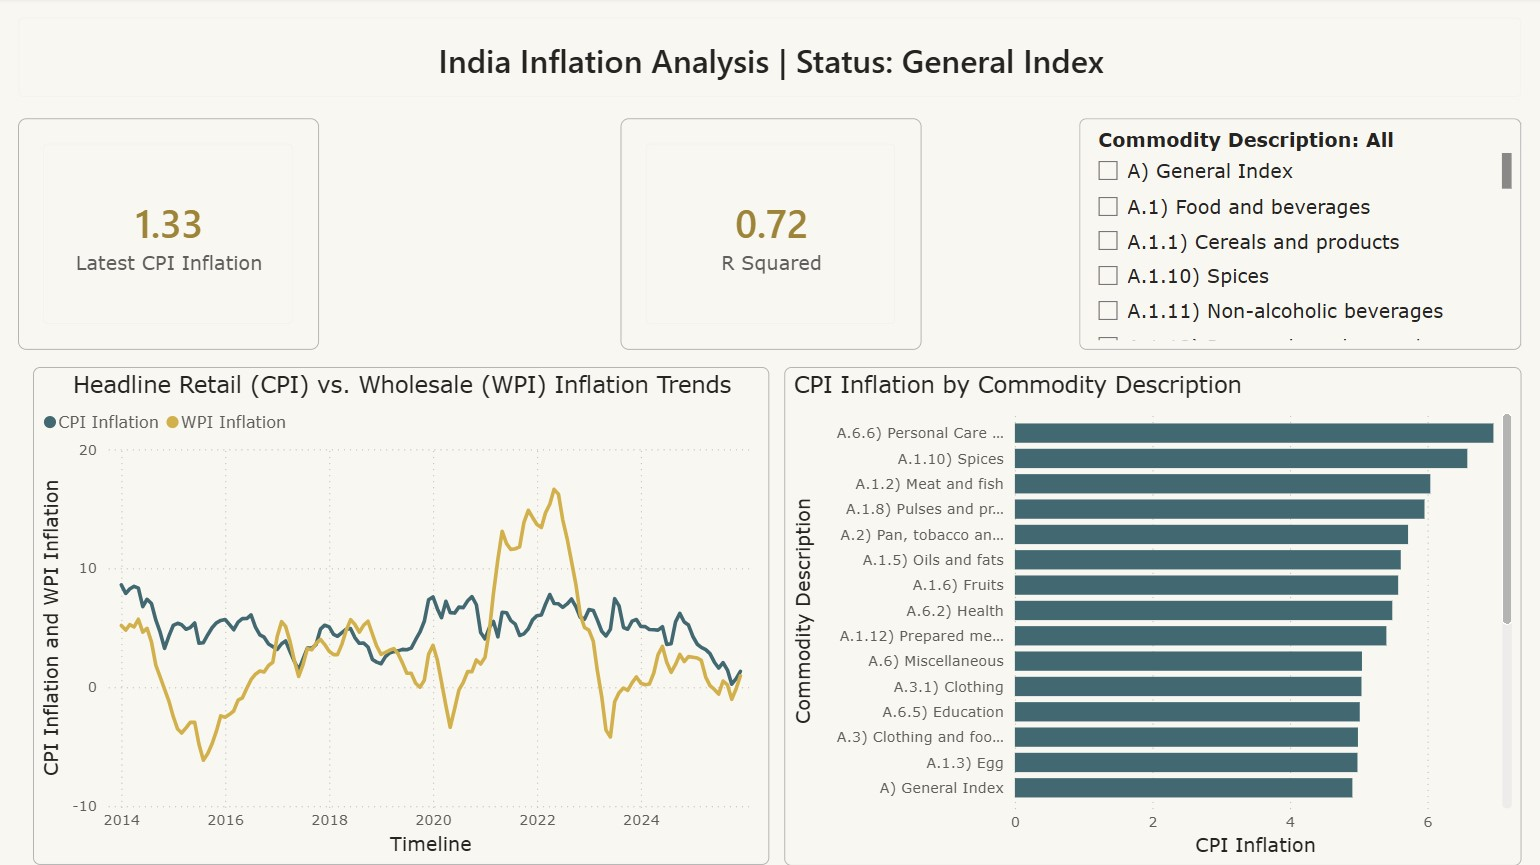

This screenshot's page, from the dashboard's own definition file:
{"tool":"powerbi","page":{"name":"Page 1","canvas":[1280,720],"ordinal":0},"visuals":[{"type":"cardVisual","fields":{"Data":["cleaned_cpi_data.Dynamic_Dashboard_Title"]},"box":[0,0,1280.8,100.5],"z":0},{"type":"cardVisual","fields":{"Data":["cleaned_cpi_data.Latest_CPI_Inflation"]},"box":[16.3,100.3,249.3,192.4],"z":1000},{"type":"cardVisual","fields":{"Data":["Sum(Model_Metrics.R_Squared)"]},"box":[516.2,100.3,249.3,192.4],"z":2000},{"type":"slicer","fields":{"Values":["cleaned_cpi_data.Commodity_Description"]},"box":[896.7,100.5,366.3,192.1],"z":3000},{"type":"lineChart","title":"Headline Retail (CPI) vs. Wholesale (WPI) Inflation Trends","fields":{"Category":["cleaned_cpi_data.Ref_Date"],"Y":["Sum(cleaned_cpi_data.Combined_Inflation)","Sum(cleaned_wpi_data.WPI_Inflation)"]},"box":[17,306.4,610.4,413],"z":4000},{"type":"clusteredBarChart","fields":{"Category":["cleaned_cpi_data.Commodity_Description"],"Y":["Avg(cleaned_cpi_data.Combined_Inflation)"]},"box":[651.9,307.2,611.3,413.3],"z":4002}]}

Visuals, with their boxes in screenshot pixels (x1, y1, x2, y2), scaled from the page's 1280x720 canvas onto the 1540x865 screenshot:
cardVisual - cleaned_cpi_data.Dynamic_Dashboard_Title: left=0, top=0, right=1539, bottom=121
cardVisual - cleaned_cpi_data.Latest_CPI_Inflation: left=20, top=120, right=320, bottom=352
cardVisual - Sum(Model_Metrics.R_Squared): left=621, top=120, right=921, bottom=352
slicer - cleaned_cpi_data.Commodity_Description: left=1079, top=121, right=1520, bottom=352
"Headline Retail (CPI) vs. Wholesale (WPI) Inflation Trends" lineChart: left=20, top=368, right=755, bottom=864
clusteredBarChart - cleaned_cpi_data.Commodity_Description x Avg(cleaned_cpi_data.Combined_Inflation): left=784, top=369, right=1520, bottom=864
